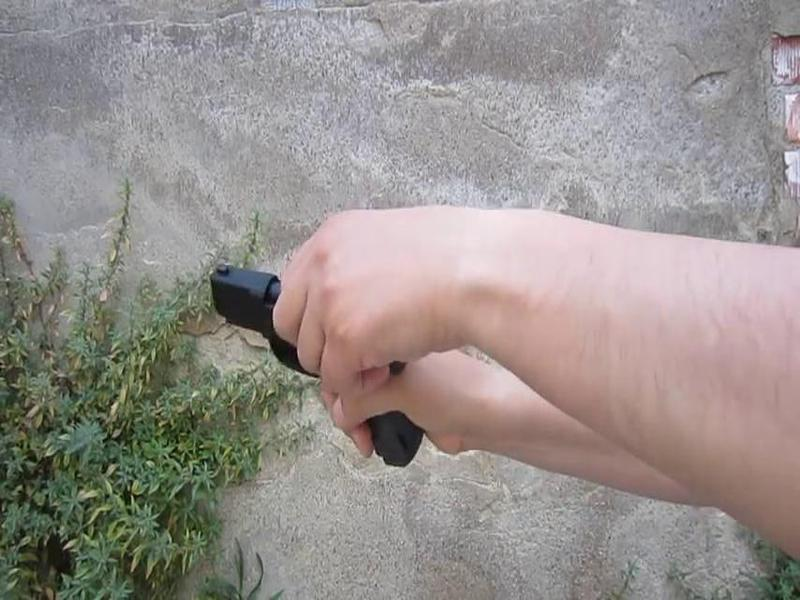Pistola: (210, 263, 425, 467)
